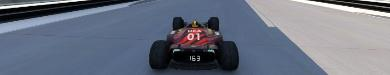Car: (148, 16, 239, 70)
